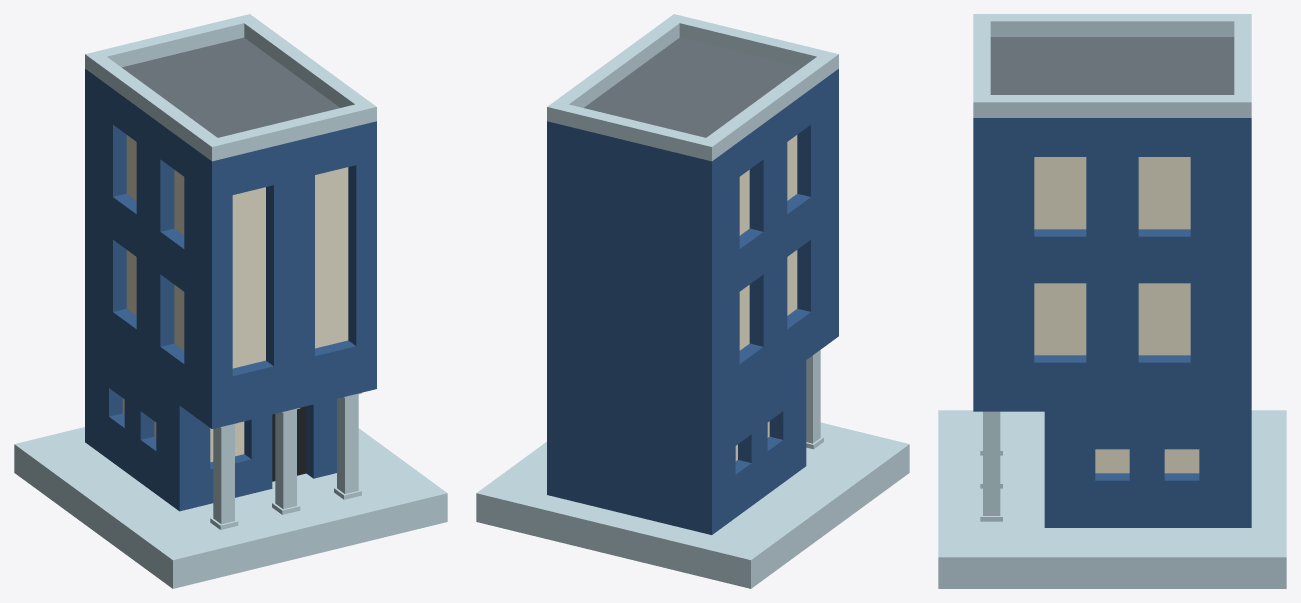
The model's file is Building_9_Base (Blue).obj.
3 views of the same model, side by side, from view 1: azimuth 30°, elevation 25°; view 2: azimuth 150°, elevation 25°; view 3: azimuth 270°, elevation 25° (orthographic). The views are drawn at different scales.
Visible parts, largest first — view 1: Building_9_Base_(Blue); view 2: Building_9_Base_(Blue); view 3: Building_9_Base_(Blue).
Part boxes in pixels (x1,y1,x2,y2): Building_9_Base_(Blue): (14,14,447,588); Building_9_Base_(Blue): (476,14,909,588); Building_9_Base_(Blue): (938,14,1286,588).
Size of the model in its own units: 2 by 2.9 by 2.
